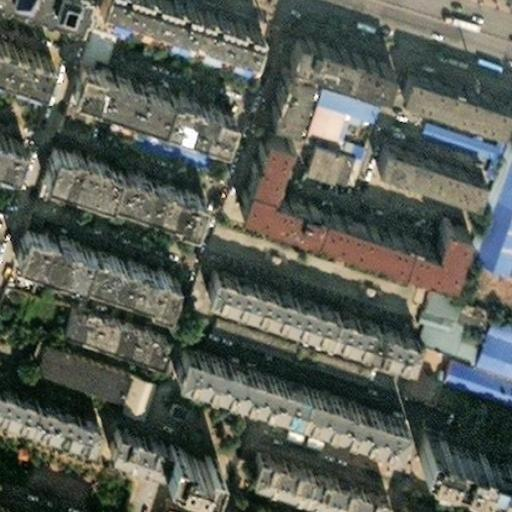building: (231, 21, 387, 227), (166, 341, 396, 436), (208, 198, 419, 295), (185, 263, 399, 357), (30, 130, 192, 213), (57, 53, 220, 133), (7, 218, 162, 292), (310, 198, 465, 271), (204, 308, 364, 377), (232, 448, 376, 512), (393, 291, 483, 393), (288, 79, 371, 178), (362, 131, 473, 197), (386, 60, 500, 124), (52, 291, 160, 350), (468, 138, 512, 270), (25, 333, 120, 392), (415, 429, 512, 484), (461, 311, 512, 395), (16, 165, 63, 228), (415, 112, 487, 151), (70, 2, 113, 62), (154, 434, 210, 475), (48, 85, 87, 131), (108, 365, 147, 410), (97, 429, 145, 465), (185, 494, 246, 512), (156, 486, 191, 512)
